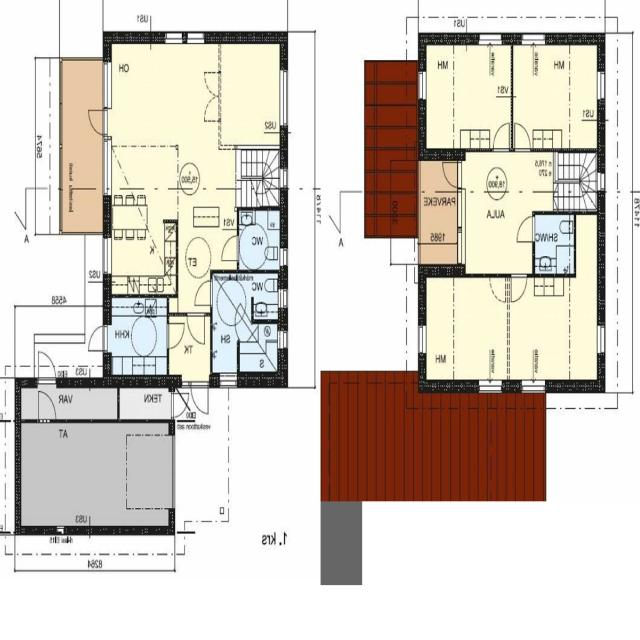door: (228, 301, 252, 342), (191, 374, 208, 416), (87, 324, 113, 351), (38, 349, 56, 387), (441, 163, 465, 190), (88, 110, 112, 135), (38, 391, 56, 424), (187, 314, 205, 345), (493, 121, 510, 153), (169, 394, 190, 419), (515, 122, 531, 152), (167, 324, 185, 350), (221, 236, 239, 262), (511, 273, 527, 302), (517, 216, 535, 241), (195, 280, 212, 306)
